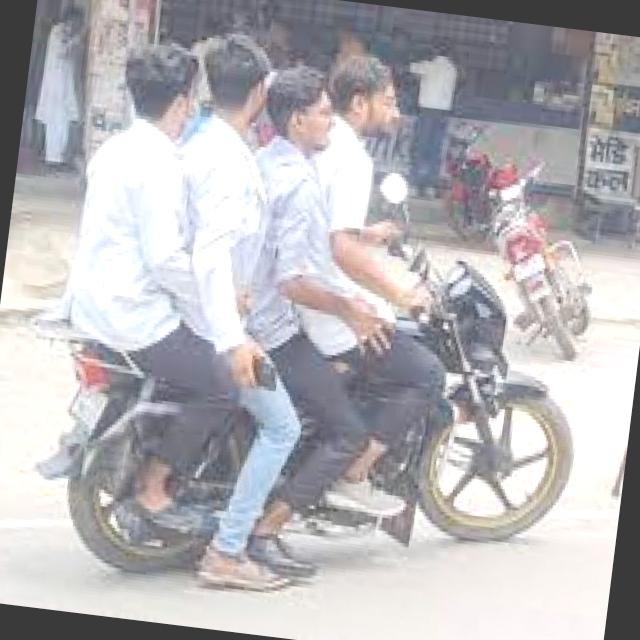motorcycle: (7, 193, 606, 640)
person: (46, 25, 289, 447), (278, 39, 486, 478), (220, 58, 418, 480), (150, 24, 346, 425)
